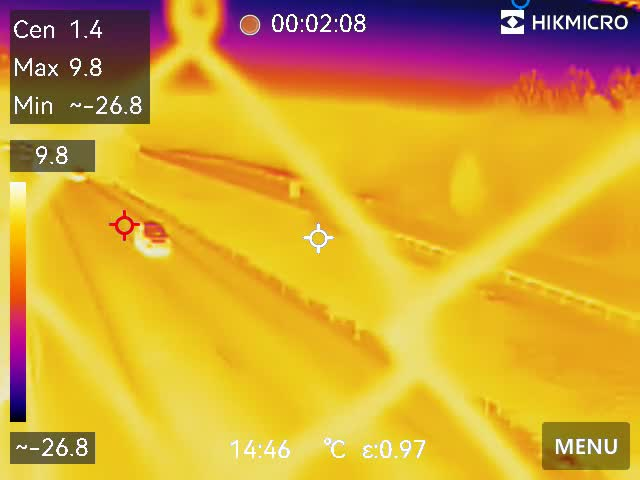largeCar: (131, 212, 176, 262)
